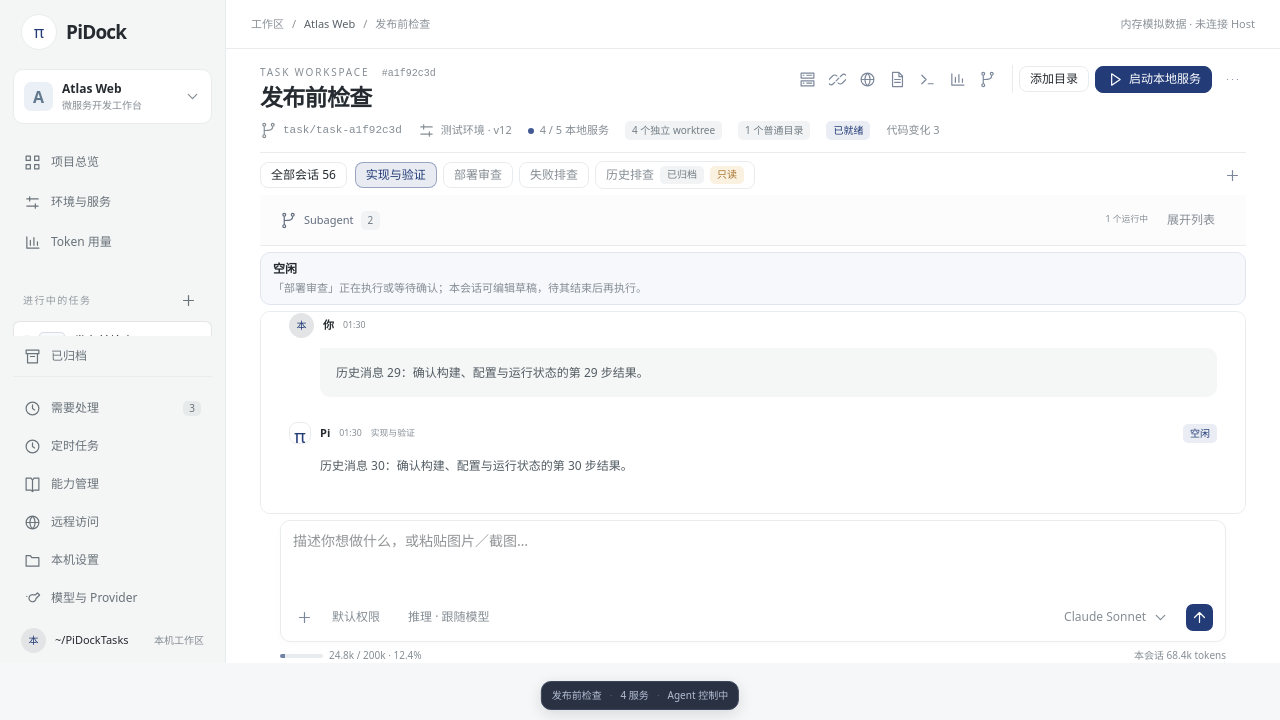
task browser panel › pauses agent automation through the attested human path
The width and height of the screenshot is (1280, 720).
(page scrolled)
Check: the heading "发布前检查" is shown, box [260,81,372,113]
Click the button named "浏览器" at (868, 79), box [854,65,882,93]
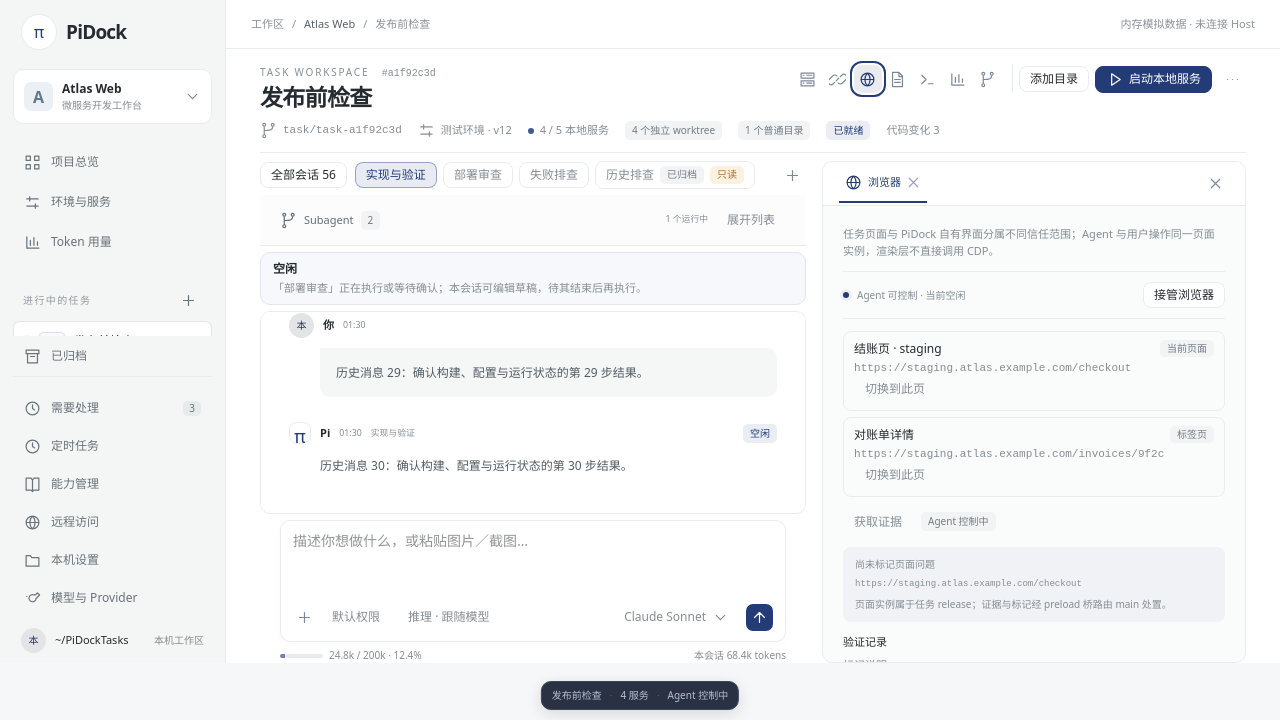
Check: the text "任务页面与 PiDock 自有界面分属不同信任范围；Agent 与用户操作同一页面实例，渲染层不直接调用 CDP。" is shown, box [843,226,1225,259]
Check: the element with test id "browser-owner" shows "Agent 可控制 · 当前空闲", box [857,288,966,302]
Click the button "接管浏览器" at (1184, 295), box [1143,282,1225,308]
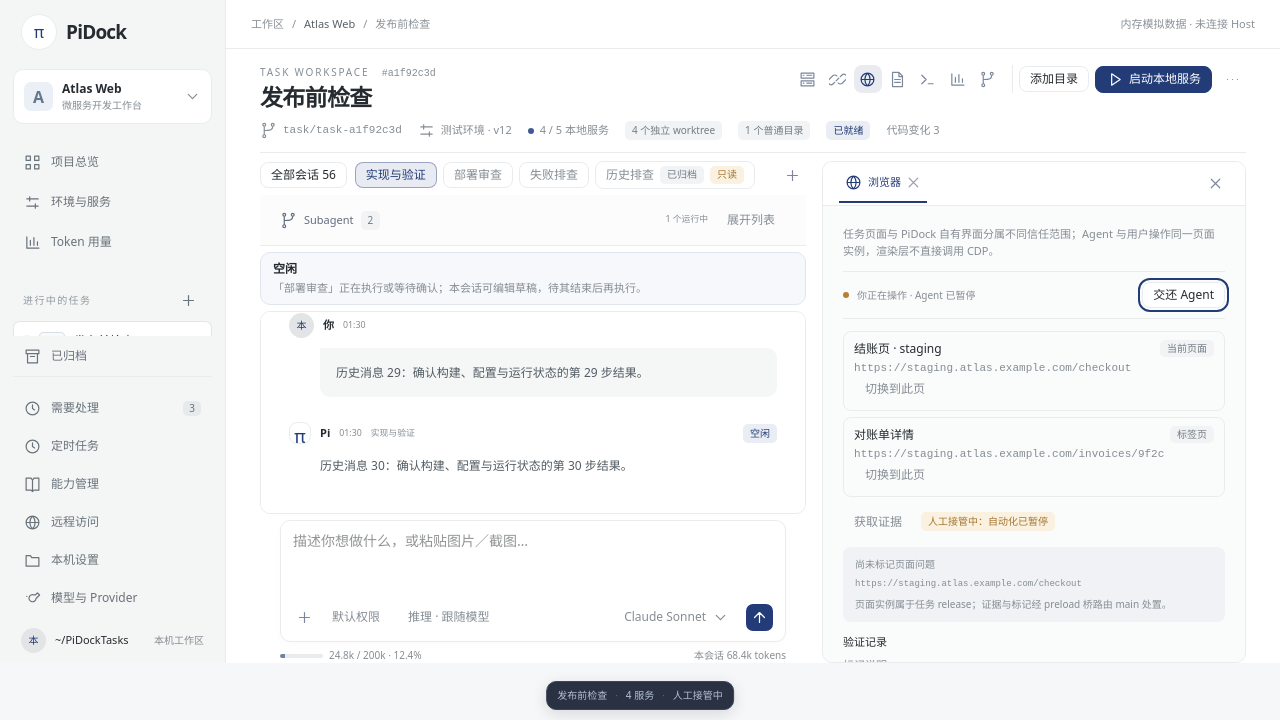
Check: the text "人工接管中：自动化已暂停" is shown, box [921,512,1055,532]
Check: the element with test id "browser-owner" shows "你正在操作 · Agent 已暂停", box [857,288,976,302]
Check: the button "交还 Agent" is shown, box [1142,282,1225,308]
